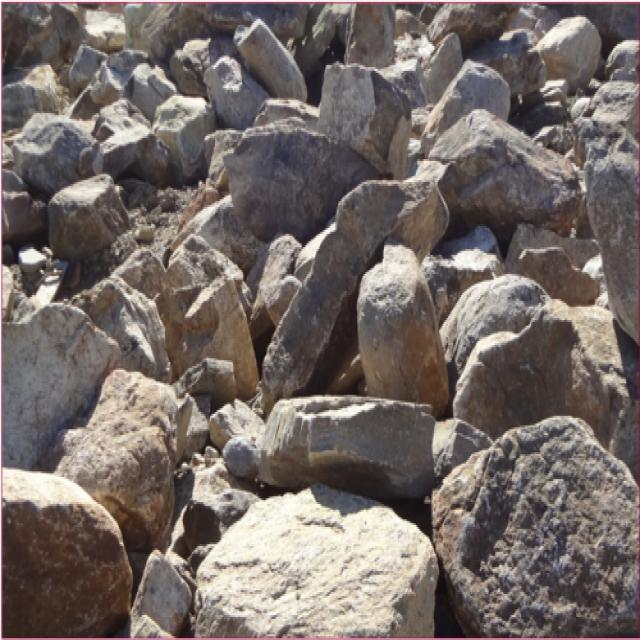rocks: (3, 4, 637, 632)
stone: (261, 176, 448, 412), (433, 418, 636, 634), (196, 485, 438, 636), (453, 309, 614, 446), (4, 468, 132, 636), (429, 109, 580, 240), (4, 303, 120, 468), (225, 121, 380, 240), (257, 397, 434, 498), (51, 420, 173, 556), (357, 241, 448, 416), (156, 240, 257, 397), (440, 274, 548, 379), (586, 136, 636, 343), (319, 65, 410, 174), (421, 59, 509, 153), (381, 10, 462, 107), (49, 174, 129, 257), (12, 113, 93, 194), (571, 69, 636, 165), (233, 19, 306, 100), (92, 100, 166, 178), (152, 94, 215, 182), (468, 31, 545, 98), (535, 15, 600, 90), (205, 56, 269, 126), (428, 4, 517, 48), (346, 4, 394, 63)
